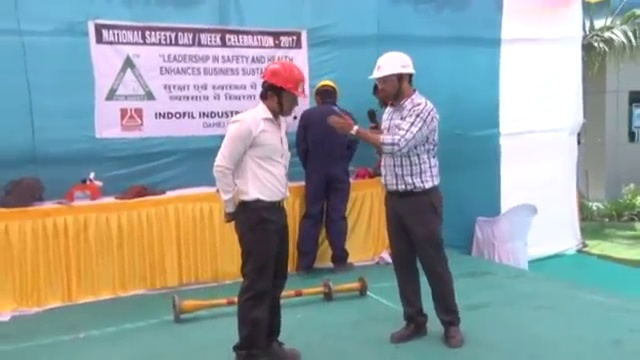helmet: (260, 60, 308, 99), (366, 48, 419, 79), (312, 79, 341, 95)
helmet_on: (367, 48, 420, 109), (256, 60, 307, 122), (311, 78, 343, 109)
person: (327, 49, 466, 348), (212, 59, 309, 360), (296, 78, 359, 276)
